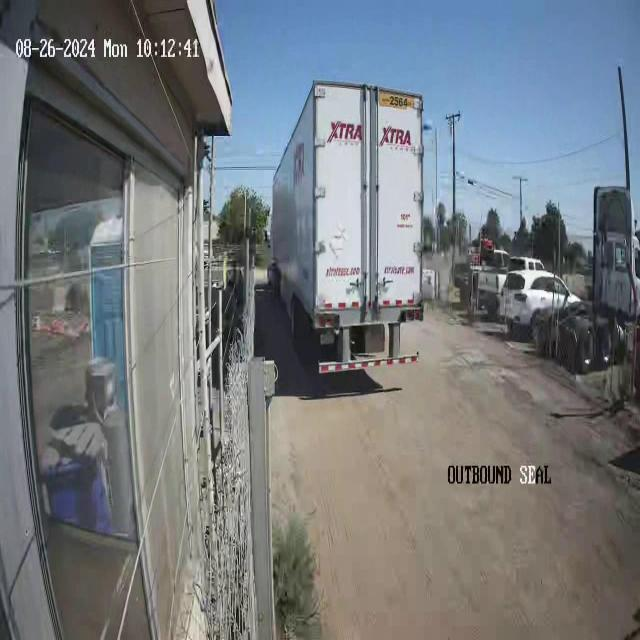TRUCK_CONTAINER: (264, 79, 425, 376)
